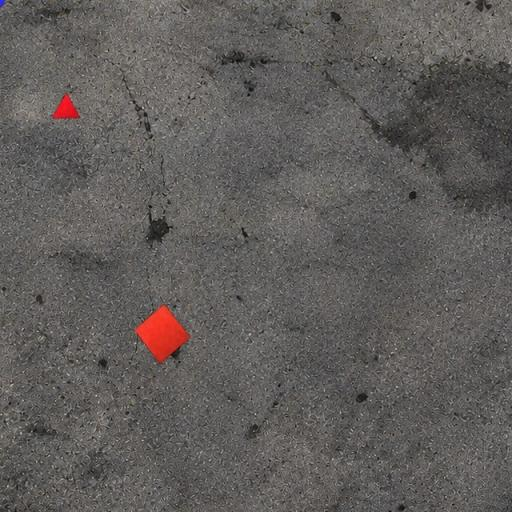RED_SQUARE: (134, 303, 191, 365)
